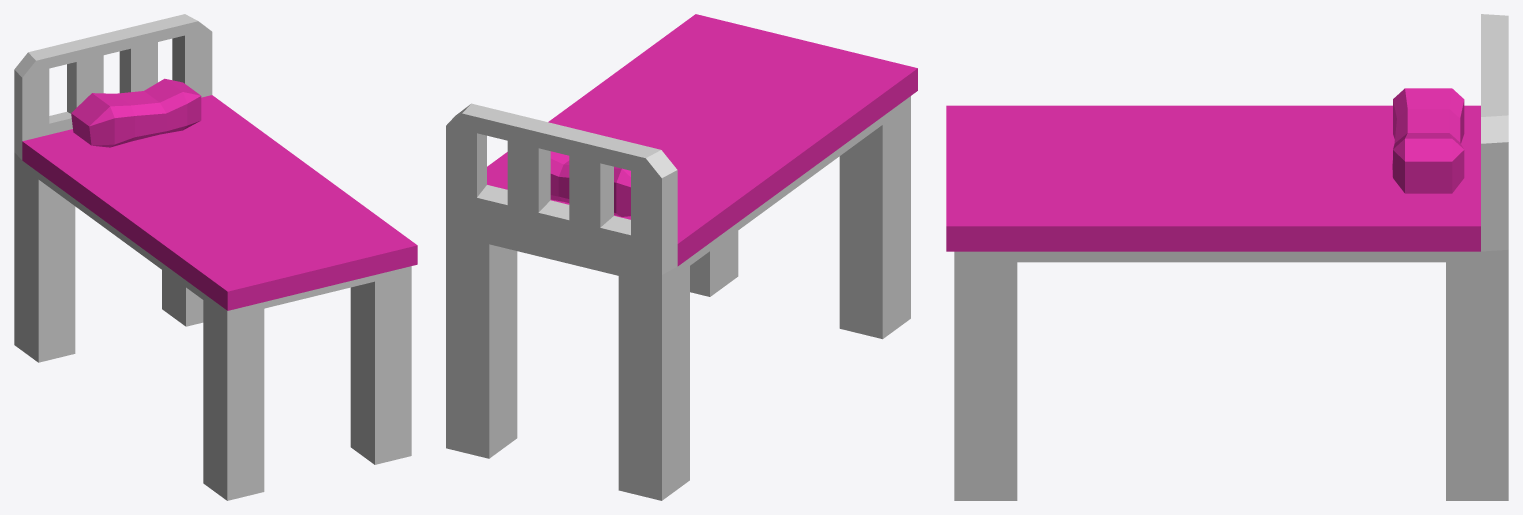
File: FMP_PrisonerBed.fbx
The picture shows the model from 3 angles, left to right: view 1: azimuth 30°, elevation 25°; view 2: azimuth 150°, elevation 25°; view 3: azimuth 270°, elevation 25°; orthographic projection. The views are drawn at different scales.
Visible parts, largest first — view 1: PrisonBedBody, BedPillow; view 2: PrisonBedBody, BedPillow; view 3: PrisonBedBody, BedPillow.
Boxes of the visible parts, x1,y1,x2,y2 form: PrisonBedBody: [14, 14, 417, 500]; BedPillow: [71, 78, 201, 147]; PrisonBedBody: [446, 14, 917, 500]; BedPillow: [550, 151, 630, 216]; PrisonBedBody: [946, 14, 1508, 500]; BedPillow: [1392, 88, 1464, 193].
Bounding box in the file's own units: 1.03 × 2.03 × 1.5.
